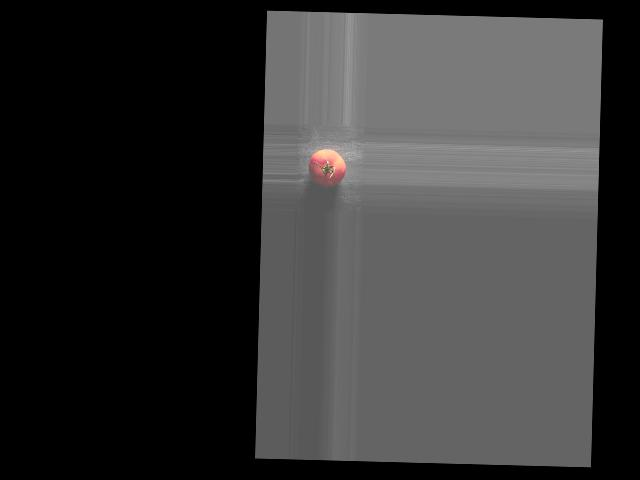tomato: (308, 148, 346, 187)
